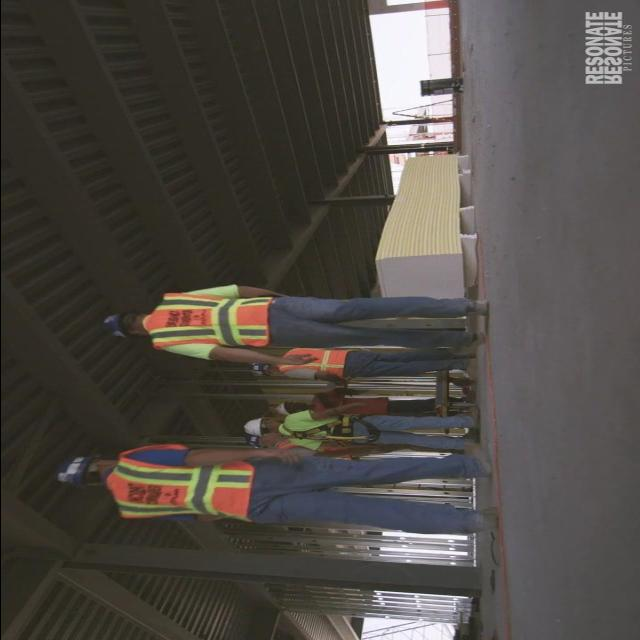helmet: (42, 449, 94, 493), (93, 307, 126, 343), (241, 413, 265, 439), (244, 357, 273, 375), (269, 398, 292, 414)
jacket: (110, 439, 260, 528), (143, 286, 277, 356), (274, 345, 342, 376)
